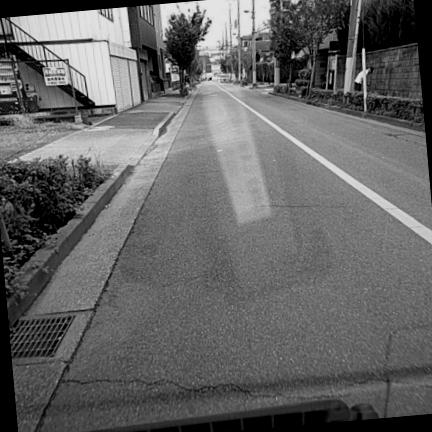Road: (38, 84, 431, 431)
